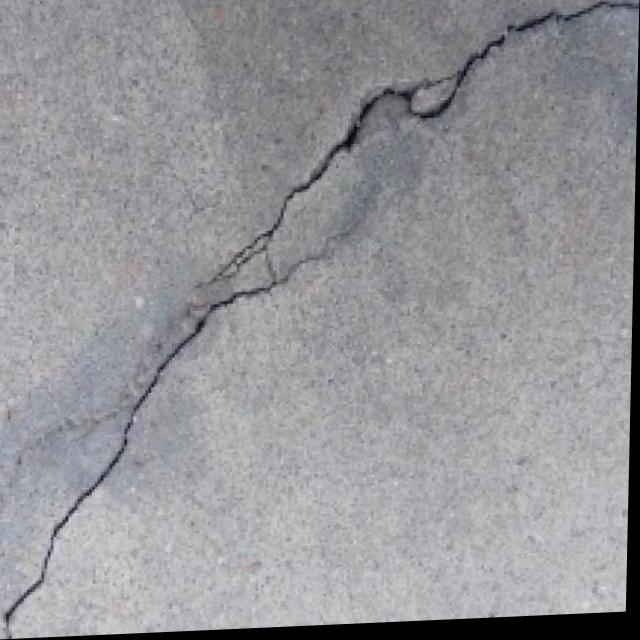Crack: (183, 0, 640, 326), (0, 326, 230, 636)
